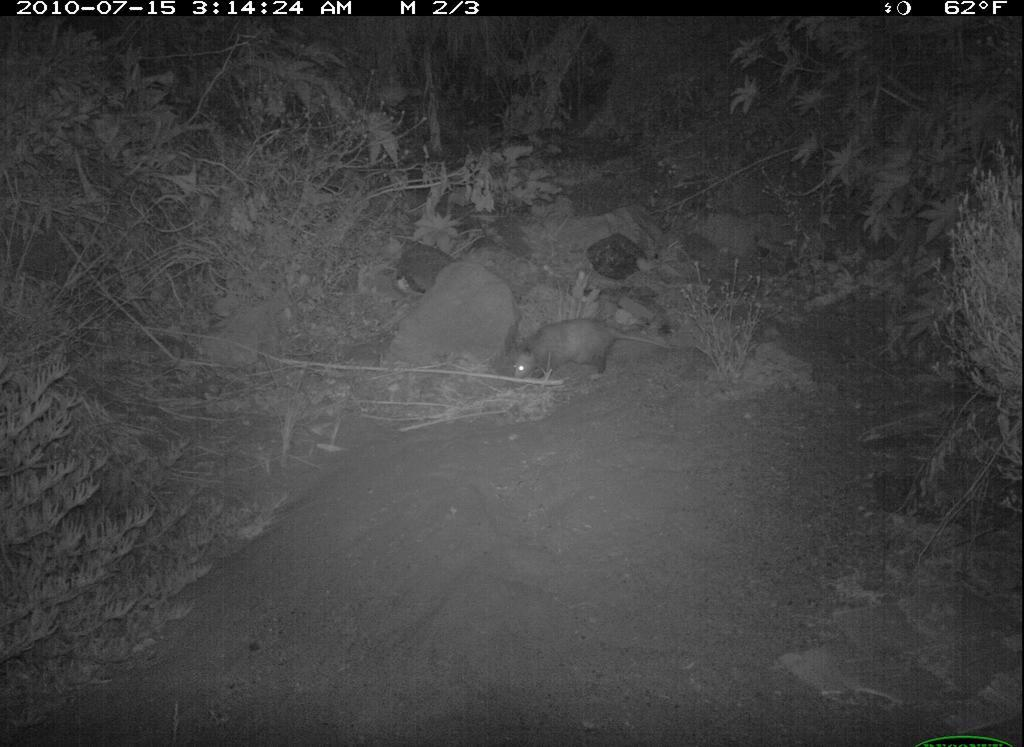opossum: (500, 315, 689, 394)
